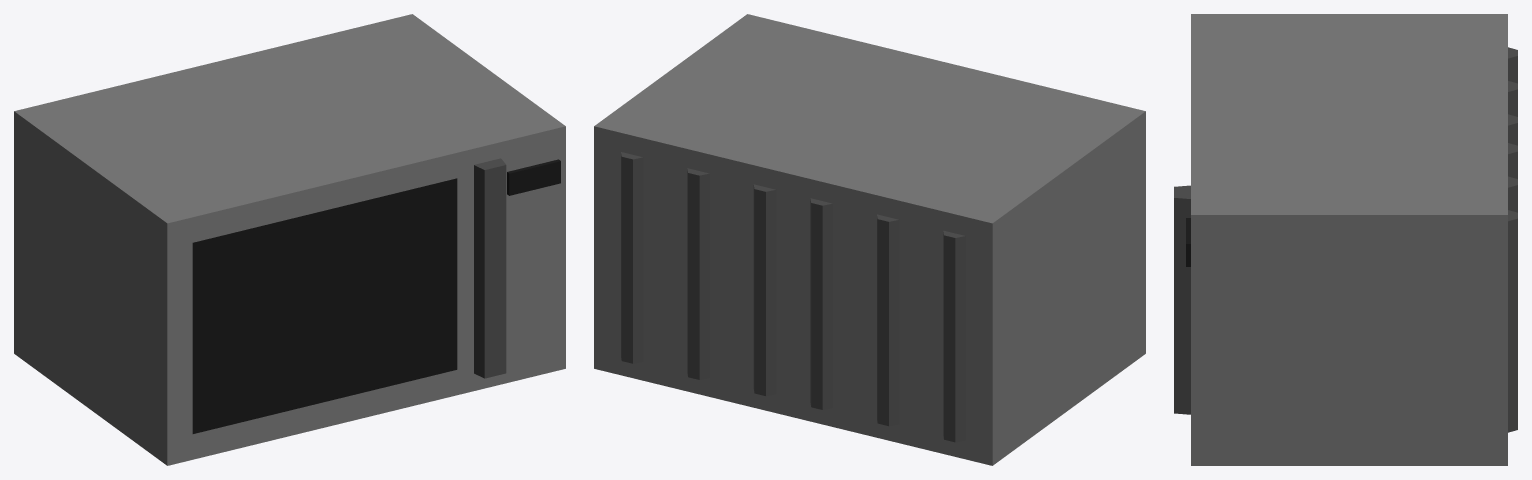
Rendered from Microwaves_01_SkF.fbx.
3 views of the same model, side by side, from view 1: azimuth 30°, elevation 25°; view 2: azimuth 150°, elevation 25°; view 3: azimuth 270°, elevation 25° (orthographic). The views are drawn at different scales.
Visible parts, largest first — view 1: Microwaves_01; view 2: Microwaves_01; view 3: Microwaves_01.
Part boxes in pixels (box(x1,y1,x2,y2)): Microwaves_01: box(14, 14, 565, 465); Microwaves_01: box(594, 14, 1145, 465); Microwaves_01: box(1174, 14, 1517, 465).
Size of the model in its own units: 50 by 29.08 by 36.12.
1 material, 1 textured.
